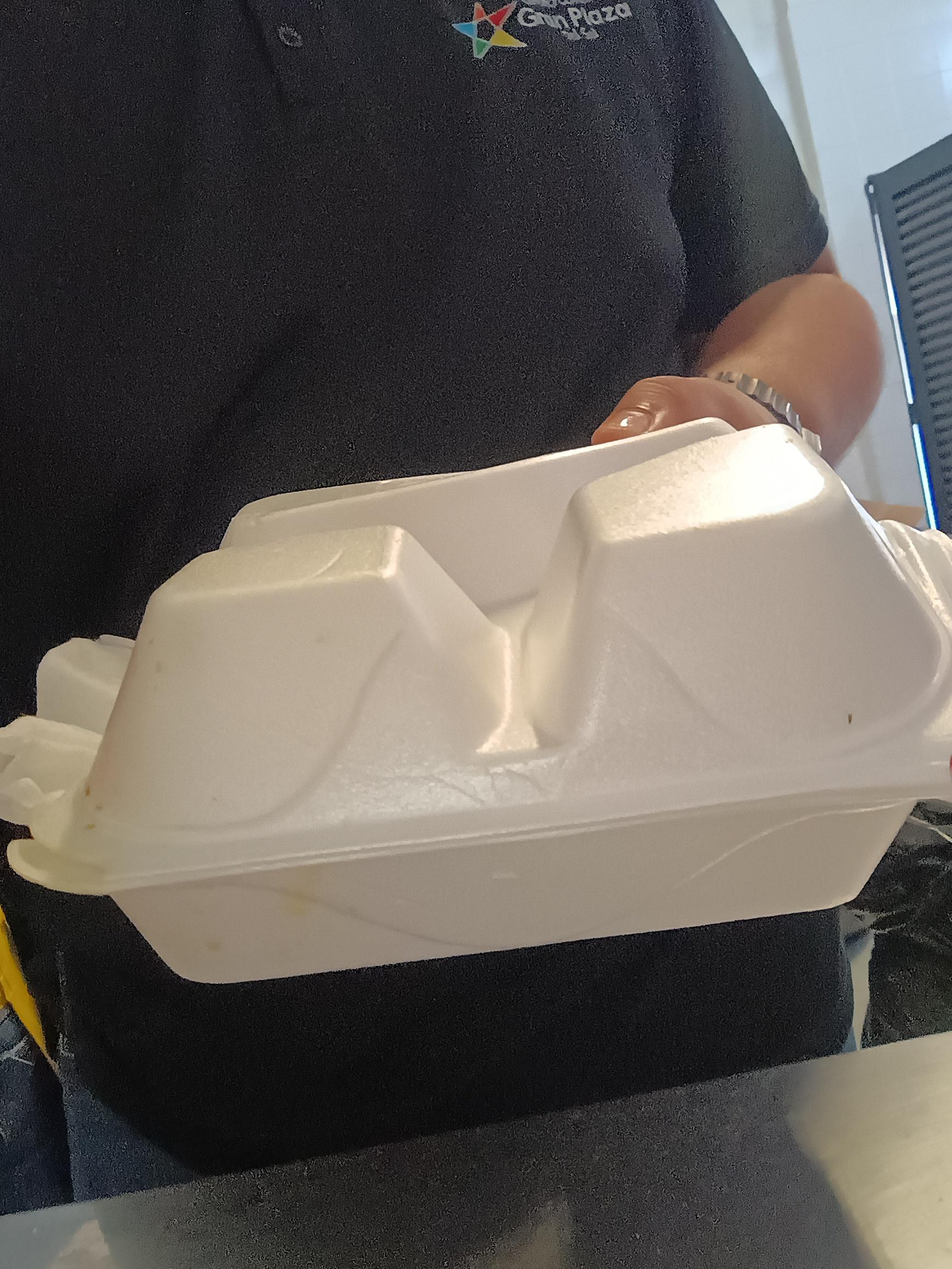Ordinario: (0, 418, 952, 986)
